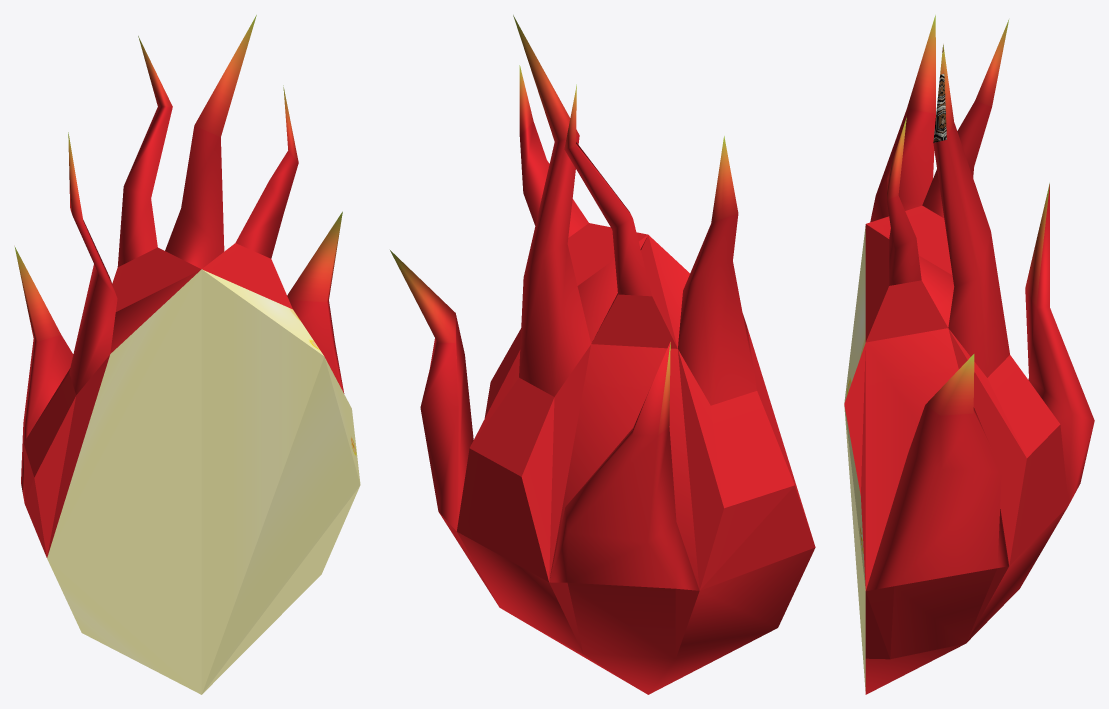
File: DrgS.FBX
The picture shows the model from 3 angles, left to right: view 1: azimuth 30°, elevation 25°; view 2: azimuth 150°, elevation 25°; view 3: azimuth 270°, elevation 25°; orthographic projection. The views are drawn at different scales.
Visible parts, largest first — view 1: Dragon001; view 2: Dragon001; view 3: Dragon001.
Boxes of the visible parts, x1,y1,x2,y2 form: Dragon001: [14, 15, 360, 694]; Dragon001: [390, 15, 815, 694]; Dragon001: [844, 15, 1094, 694].
Bounding box in the file's own units: 9.05 × 15.88 × 5.14.
